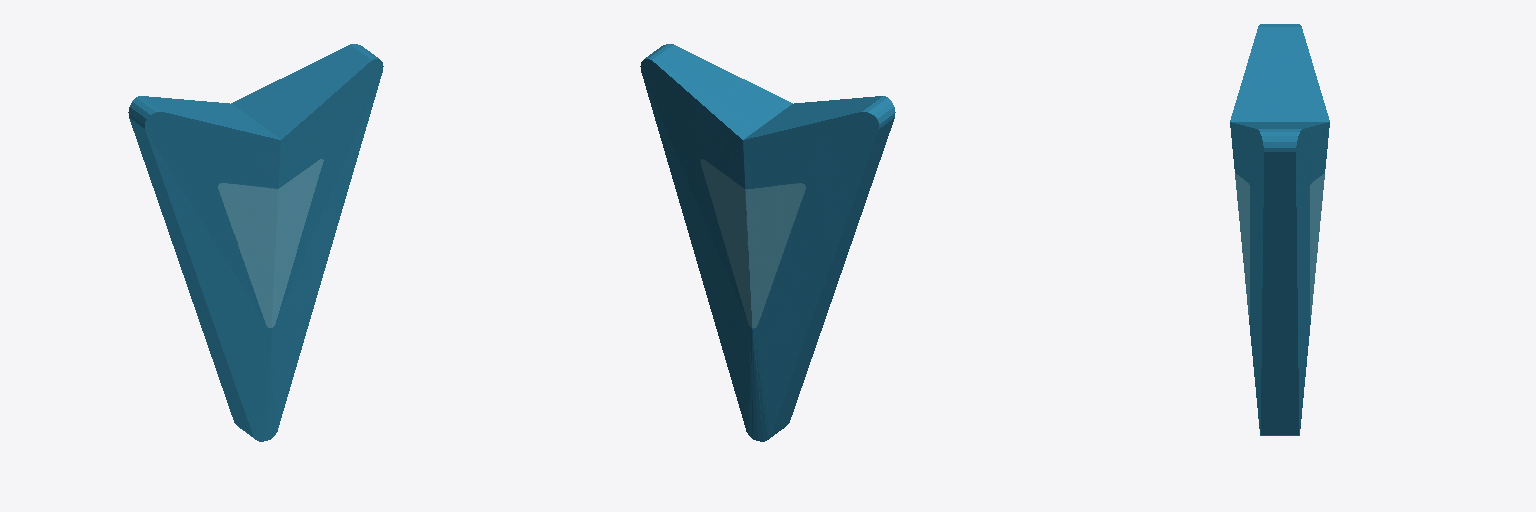
The picture shows the model from 3 angles: view 1: azimuth 30°, elevation 25°; view 2: azimuth 150°, elevation 25°; view 3: azimuth 270°, elevation 25°; orthographic projection.
Parts seen in each view (by area): view 1: Arrow2; view 2: Arrow2; view 3: Arrow2.
Part boxes in pixels (x1,y1,x2,y2): Arrow2: (128, 44, 383, 441); Arrow2: (640, 44, 895, 441); Arrow2: (1230, 24, 1329, 435).
Size of the model in its own units: 6.37 by 9.07 by 2.31.
1 materials, 1 textured.